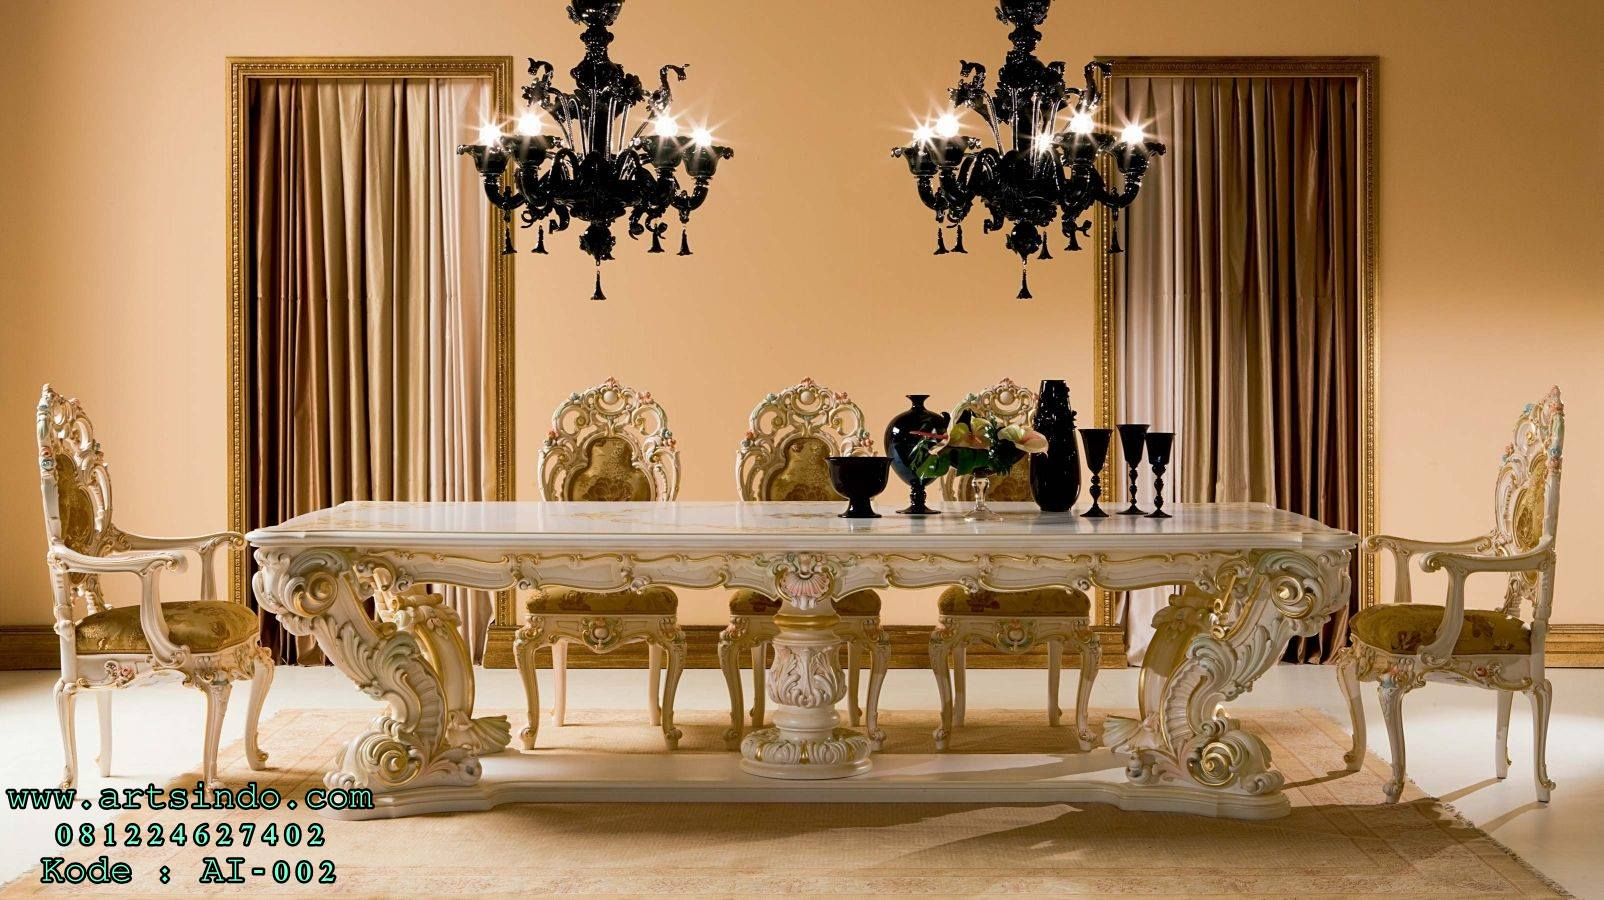Carving Chair: (1323, 398, 1594, 863), (11, 386, 290, 822)
Carving Table: (243, 482, 1343, 829)
